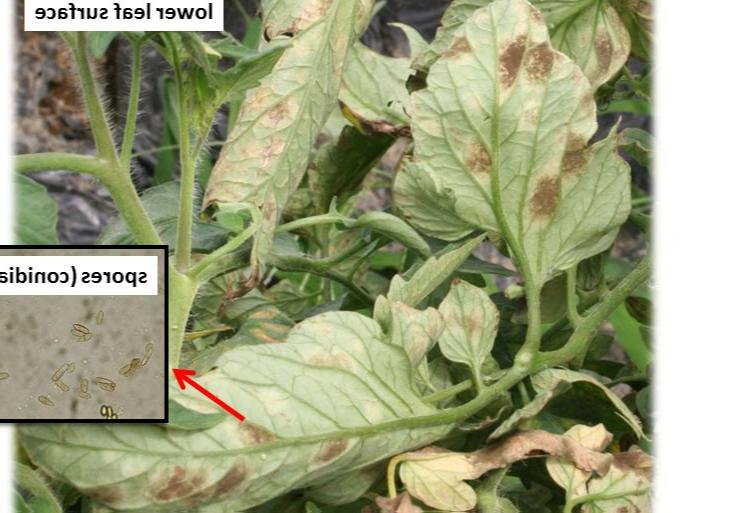Tomato mold leaf: (32, 296, 449, 513), (404, 0, 633, 293), (204, 0, 394, 268), (431, 277, 509, 377)
